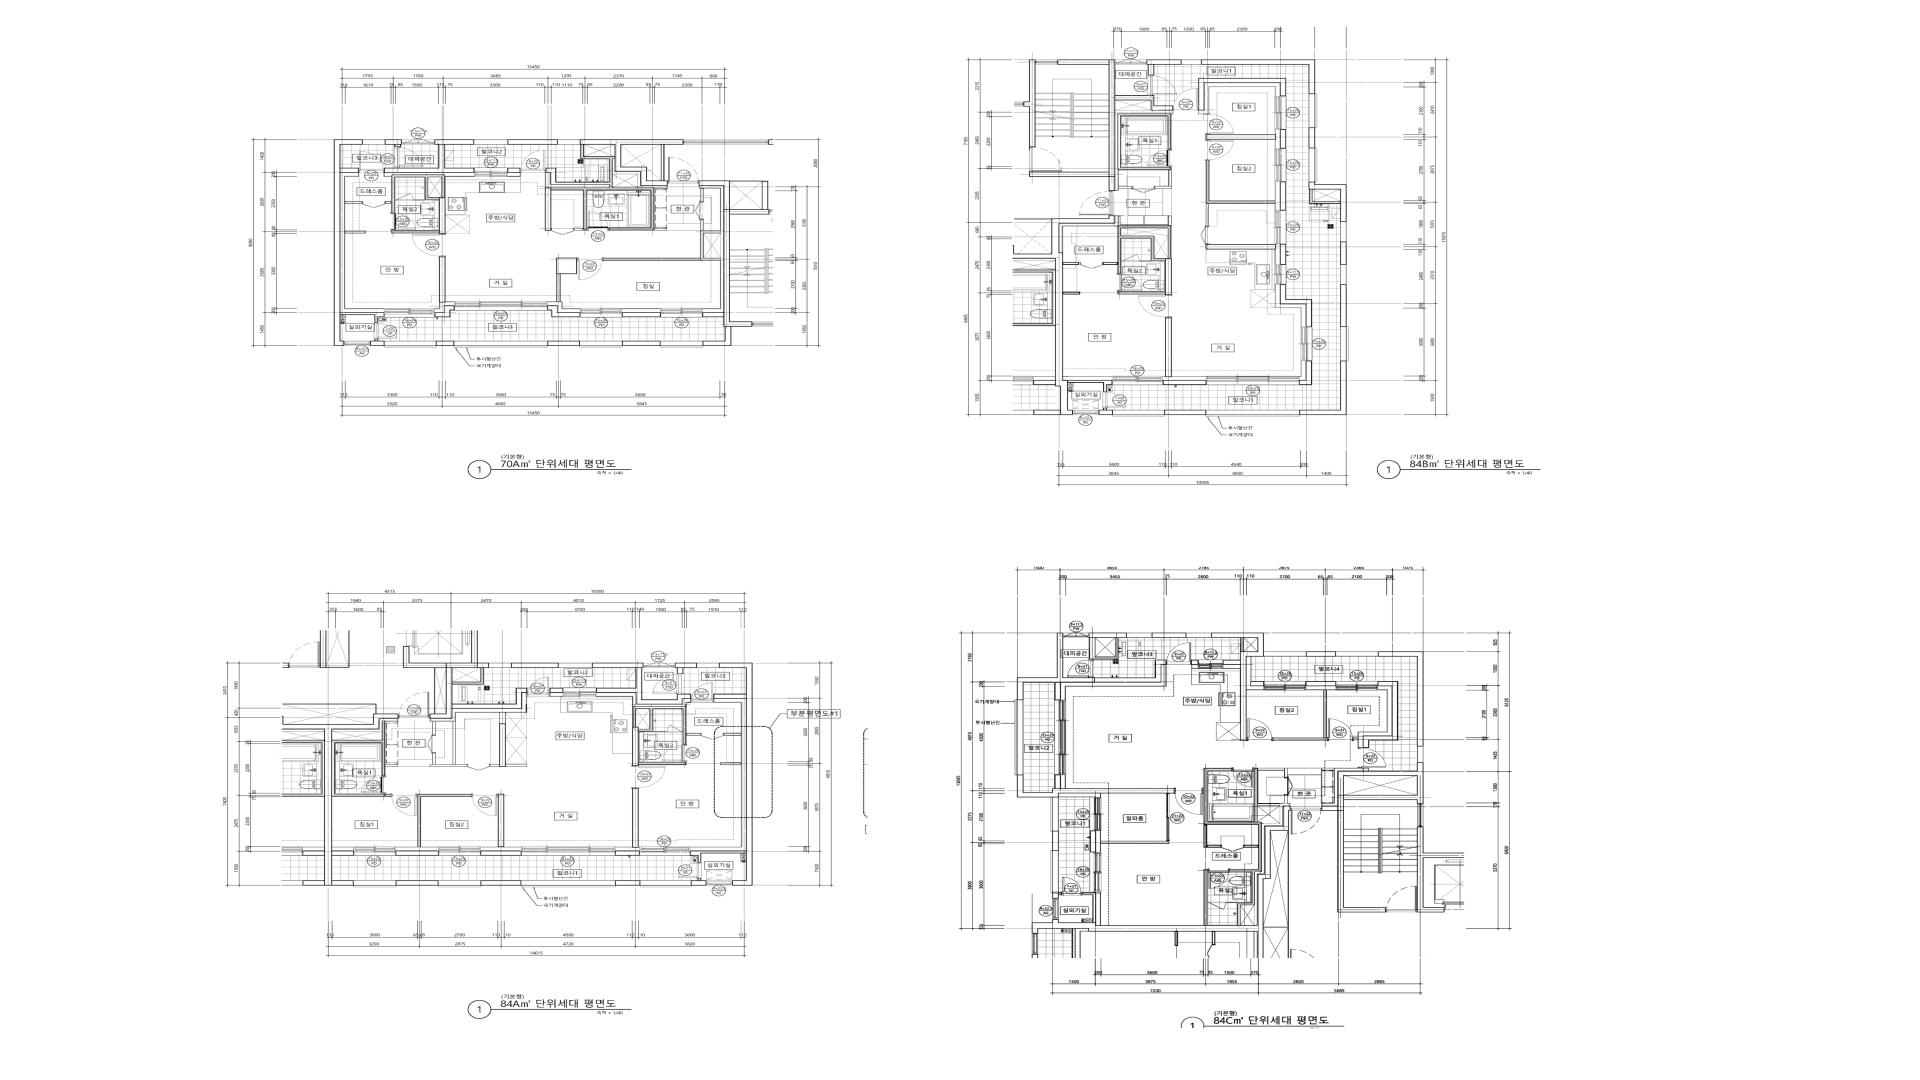door: (1290, 807, 1322, 834), (398, 692, 430, 718), (667, 157, 699, 183), (1079, 191, 1112, 216), (1029, 147, 1062, 172), (1174, 788, 1204, 815), (1138, 295, 1172, 318), (412, 234, 445, 257), (632, 766, 665, 788), (394, 147, 423, 168), (653, 674, 683, 694), (1246, 719, 1273, 741), (1327, 719, 1354, 741), (1148, 75, 1177, 95), (472, 794, 498, 816), (391, 794, 417, 816), (577, 258, 603, 280), (520, 150, 546, 172), (1358, 748, 1386, 768), (1173, 88, 1198, 110), (358, 151, 384, 172), (1206, 114, 1233, 134), (1206, 140, 1233, 160), (1166, 643, 1191, 664), (1067, 659, 1094, 678), (691, 683, 714, 703), (527, 677, 550, 697), (1232, 768, 1255, 787), (361, 776, 385, 794), (1118, 274, 1142, 292), (587, 211, 609, 230), (1207, 870, 1230, 888), (662, 745, 686, 762), (1147, 150, 1171, 167), (1061, 877, 1082, 896), (392, 213, 415, 230), (678, 863, 701, 879), (1103, 392, 1126, 408), (374, 323, 397, 339), (1208, 902, 1237, 910), (1166, 793, 1170, 841), (1284, 776, 1293, 796), (695, 201, 704, 221), (701, 733, 724, 740), (1221, 845, 1244, 852), (1132, 186, 1155, 193), (1080, 262, 1103, 269), (551, 228, 574, 235), (362, 201, 385, 208), (1121, 254, 1140, 262), (427, 735, 435, 753), (395, 193, 413, 201), (1201, 226, 1209, 244), (467, 765, 490, 771), (667, 725, 682, 732)
wall: (1032, 806, 1290, 958), (1029, 60, 1173, 191), (1322, 762, 1424, 913), (690, 663, 752, 886), (1204, 768, 1290, 926), (324, 714, 398, 886), (1055, 216, 1115, 415), (699, 181, 769, 346), (334, 140, 384, 346), (1017, 633, 1166, 700), (545, 145, 654, 231), (403, 646, 527, 719), (690, 699, 746, 851), (430, 693, 527, 767), (340, 173, 384, 313), (1211, 633, 1264, 741), (603, 220, 720, 261), (1103, 226, 1172, 295), (580, 140, 683, 186), (1115, 110, 1173, 191), (1206, 160, 1275, 226), (1378, 651, 1424, 747), (592, 663, 691, 705), (1417, 827, 1464, 913), (1201, 60, 1315, 94), (1017, 775, 1174, 797), (632, 707, 686, 766), (384, 139, 474, 173), (699, 186, 723, 312), (1117, 114, 1171, 170), (417, 794, 472, 847), (1198, 78, 1286, 110), (1273, 690, 1327, 741), (1358, 681, 1398, 748), (1198, 83, 1280, 114), (1300, 361, 1347, 415), (1263, 831, 1289, 928), (1059, 216, 1119, 253), (391, 175, 445, 213), (613, 159, 667, 188), (1322, 768, 1363, 806), (1309, 182, 1347, 222), (1344, 776, 1417, 795), (1280, 284, 1312, 327), (1275, 284, 1306, 327), (596, 693, 691, 707), (332, 719, 398, 732), (1089, 638, 1118, 659), (1147, 60, 1182, 75), (1029, 60, 1035, 147), (1206, 134, 1276, 140), (1257, 806, 1280, 824), (1165, 318, 1172, 377), (452, 668, 481, 682), (547, 306, 580, 317), (632, 788, 638, 848), (384, 173, 474, 177), (1206, 244, 1276, 249), (556, 258, 577, 274), (547, 302, 580, 312), (1155, 170, 1172, 189), (498, 794, 504, 847), (1299, 361, 1312, 385), (507, 139, 558, 145), (499, 724, 506, 767), (1340, 285, 1347, 327), (636, 709, 650, 729), (439, 257, 445, 303), (1306, 681, 1336, 690), (675, 663, 697, 674), (481, 880, 521, 886), (511, 663, 558, 668), (1090, 831, 1101, 852), (439, 197, 445, 234), (396, 851, 439, 856), (1163, 380, 1206, 385), (396, 881, 438, 886), (435, 306, 454, 317), (480, 851, 521, 856), (1165, 410, 1206, 415), (1101, 841, 1169, 844), (1063, 376, 1112, 380), (622, 312, 661, 317), (622, 341, 660, 346), (435, 302, 454, 312), (1089, 633, 1127, 638), (1306, 651, 1336, 657), (1163, 376, 1206, 380), (1152, 633, 1186, 638), (396, 847, 438, 851), (1204, 870, 1207, 926), (1280, 182, 1286, 210), (480, 847, 521, 851), (1340, 242, 1347, 265), (548, 341, 580, 346), (622, 308, 661, 312), (392, 230, 439, 233), (1275, 182, 1280, 210), (1052, 831, 1059, 851), (1299, 361, 1306, 380), (1280, 244, 1286, 265), (615, 881, 640, 886), (615, 851, 640, 856), (691, 878, 706, 886), (1309, 128, 1315, 148), (1280, 129, 1286, 149), (385, 140, 402, 147), (556, 274, 560, 302), (661, 145, 664, 181), (508, 168, 520, 177), (1275, 244, 1280, 265), (615, 847, 640, 851), (370, 339, 384, 346), (1099, 408, 1113, 415), (1275, 130, 1280, 149), (436, 341, 454, 346), (332, 847, 354, 851), (550, 688, 563, 693), (506, 764, 527, 767), (1191, 660, 1198, 669), (700, 188, 704, 202), (550, 693, 563, 697), (1240, 638, 1244, 651), (345, 201, 362, 204), (1052, 892, 1059, 899), (434, 668, 435, 714), (686, 733, 701, 736), (345, 231, 366, 233), (574, 228, 584, 231), (1168, 216, 1171, 226), (385, 765, 397, 767), (654, 228, 666, 230), (385, 201, 392, 204), (490, 765, 499, 767), (653, 731, 667, 732), (413, 200, 424, 201), (1140, 261, 1150, 262), (1354, 738, 1358, 740), (1059, 892, 1061, 895), (730, 181, 762, 181)
window: (454, 301, 547, 311), (1054, 700, 1066, 775), (521, 847, 615, 856), (1206, 376, 1299, 385), (454, 341, 548, 348), (1206, 410, 1300, 417), (1015, 700, 1023, 775), (521, 881, 616, 887), (1112, 376, 1163, 385), (384, 308, 435, 317), (640, 847, 690, 856), (1090, 852, 1101, 892), (354, 847, 396, 856), (438, 847, 480, 856), (1264, 681, 1306, 690), (1336, 681, 1378, 690), (580, 308, 622, 317), (1090, 797, 1101, 831), (1301, 327, 1312, 361), (1275, 210, 1286, 244), (1275, 96, 1286, 130), (661, 308, 702, 317), (1050, 851, 1059, 892), (384, 341, 436, 348), (1113, 410, 1165, 417), (1275, 149, 1286, 182), (640, 881, 691, 887), (474, 168, 508, 177), (1340, 327, 1349, 361), (1050, 797, 1059, 831), (660, 341, 703, 348), (563, 688, 596, 697), (580, 341, 622, 348), (1309, 148, 1317, 182), (1309, 94, 1317, 128), (353, 881, 396, 887), (438, 881, 481, 887), (1336, 651, 1378, 657), (1198, 660, 1223, 669), (1275, 265, 1286, 284), (474, 139, 508, 145), (643, 662, 675, 668), (402, 138, 434, 144), (558, 663, 592, 668), (1264, 652, 1306, 656), (1417, 804, 1424, 827), (1115, 59, 1147, 64), (1063, 632, 1089, 638), (1052, 899, 1059, 920), (1340, 222, 1347, 242), (1340, 265, 1347, 285), (558, 139, 580, 145), (1073, 410, 1099, 415), (344, 341, 370, 346), (1127, 633, 1152, 638), (1186, 633, 1211, 638), (1035, 60, 1058, 65), (489, 663, 511, 668), (697, 663, 719, 668), (363, 140, 385, 145), (1417, 747, 1424, 762), (706, 881, 732, 885), (1182, 60, 1201, 65)
